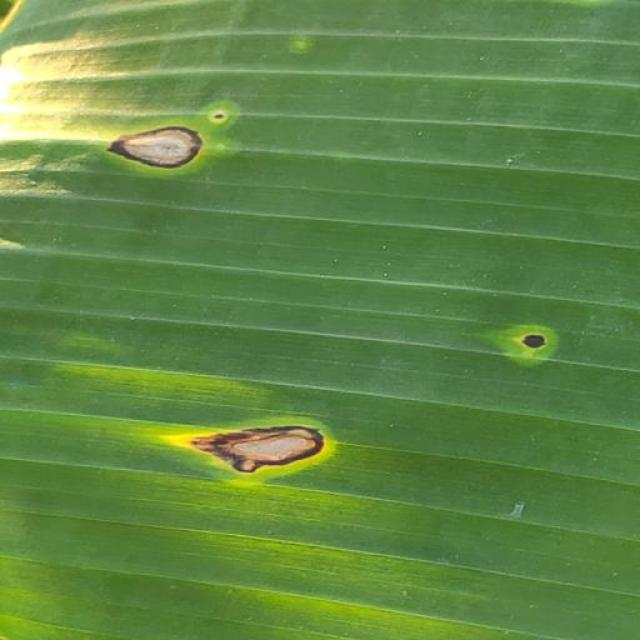Early_rust: (125, 385, 382, 541), (53, 35, 275, 211), (483, 285, 583, 394)
